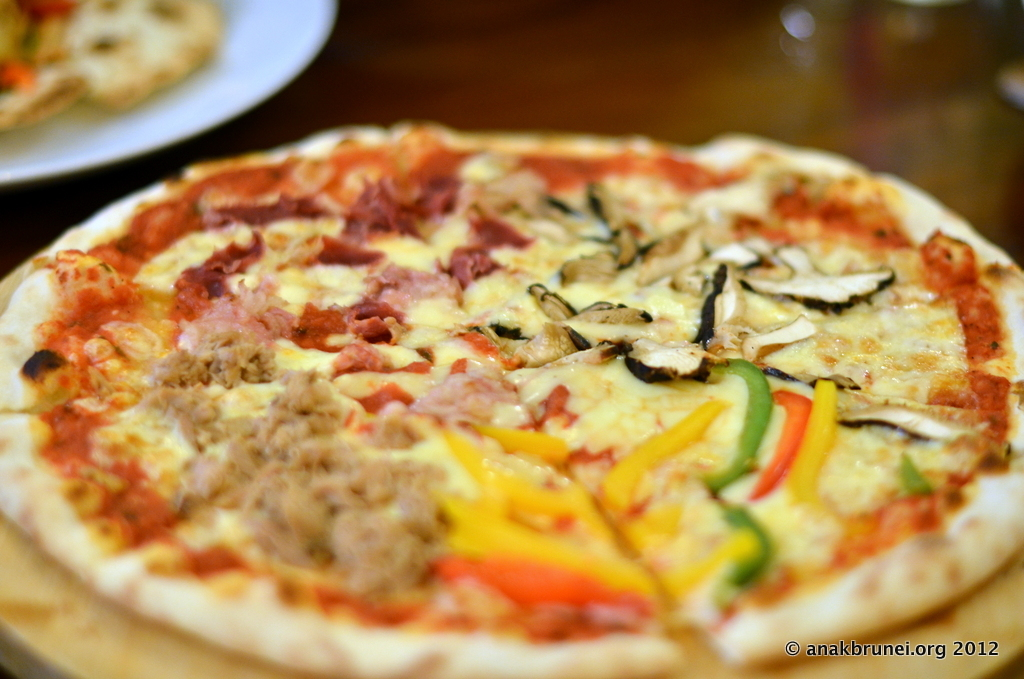Pizza: (536, 372, 1022, 653), (113, 388, 508, 677), (568, 234, 1004, 417), (469, 360, 670, 677), (122, 139, 428, 323), (0, 237, 300, 417), (423, 136, 755, 298), (0, 370, 311, 542), (0, 2, 211, 128)
